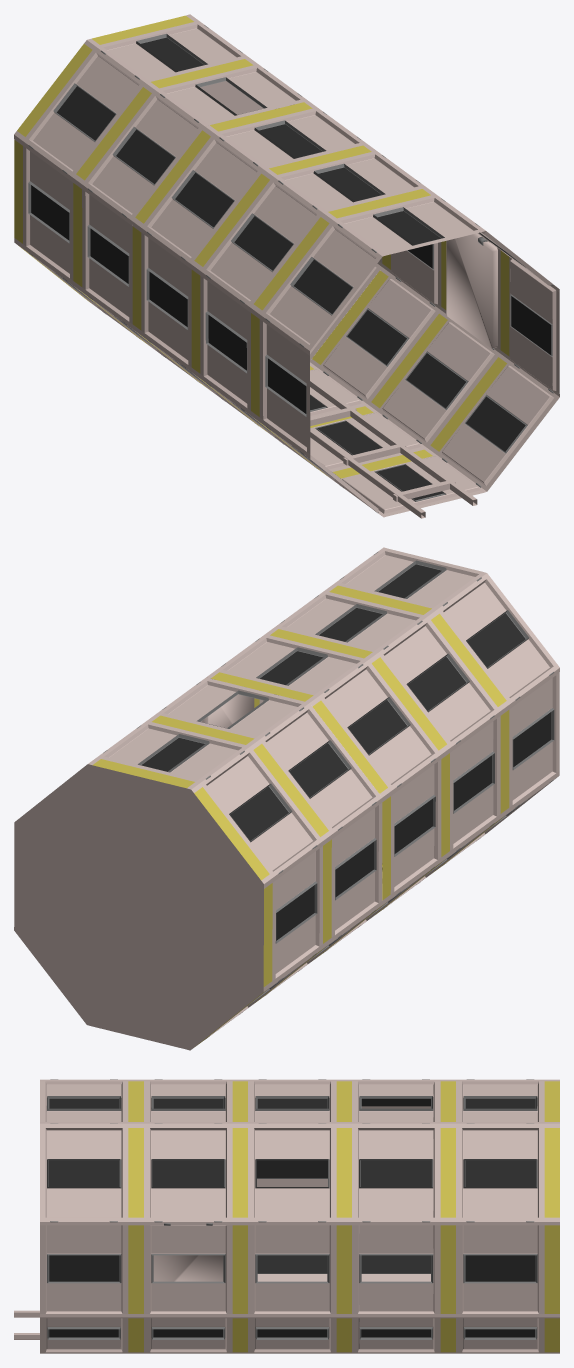
The model's file is spaceo_.fbx.
3 views of the same model, one above another, from view 1: azimuth 30°, elevation 25°; view 2: azimuth 150°, elevation 25°; view 3: azimuth 270°, elevation 25° (orthographic). The views are drawn at different scales.
Parts seen in each view (by area): view 1: Cube.002; view 2: Cube.002; view 3: Cube.002.
Boxes of the visible parts, x1,y1,x2,y2 form: Cube.002: (14,14,559,518); Cube.002: (14,547,559,1050); Cube.002: (14,1079,559,1353).
Size of the model in its own units: 902 by 902 by 1939.
